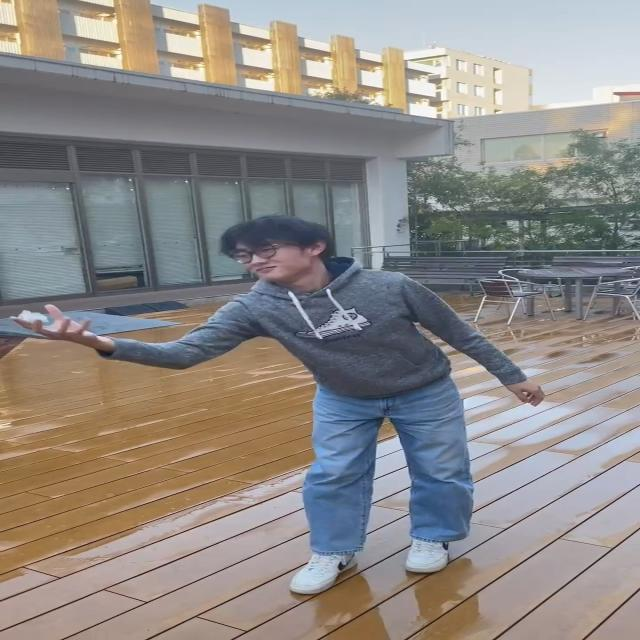paper: (17, 310, 48, 322)
